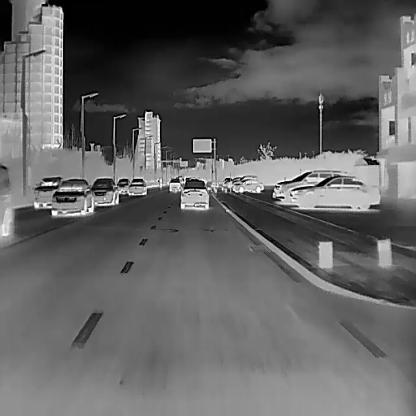car: (289, 173, 380, 211), (272, 169, 349, 197), (49, 180, 93, 216), (33, 176, 66, 208), (89, 176, 119, 206), (180, 178, 208, 210), (233, 178, 263, 192), (128, 176, 147, 196), (114, 177, 127, 193), (168, 177, 180, 192)
